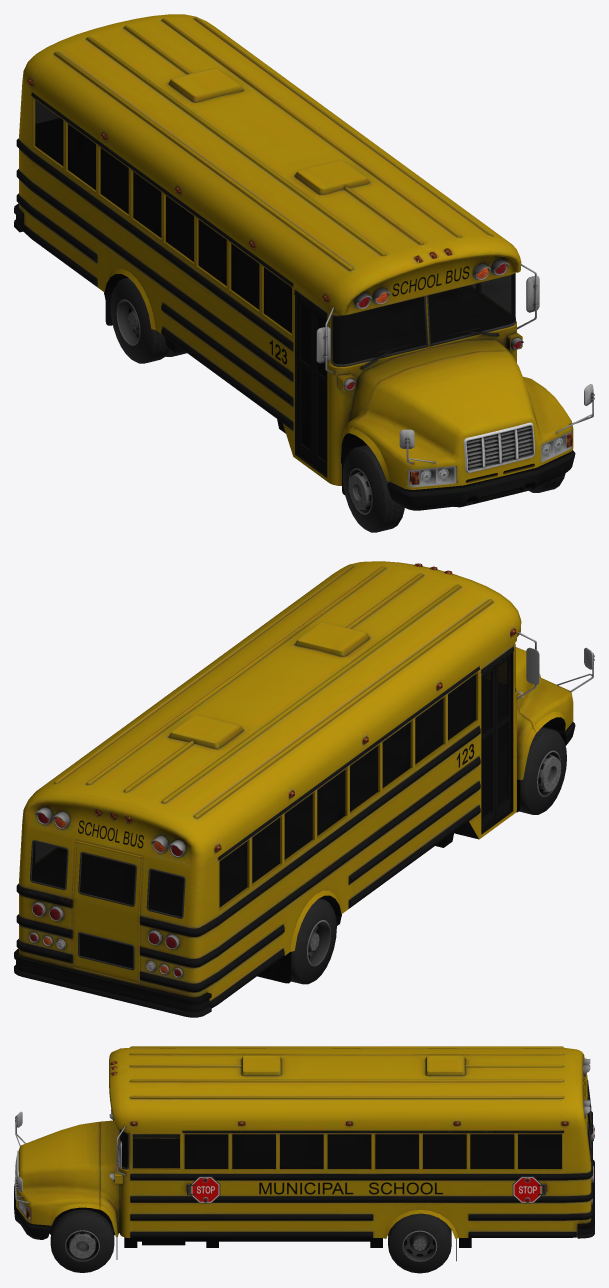
File: veh-school_bus.glb
The picture shows the model from 3 angles, top to bottom: view 1: azimuth 30°, elevation 25°; view 2: azimuth 150°, elevation 25°; view 3: azimuth 270°, elevation 25°; orthographic projection. The views are drawn at different scales.
Parts seen in each view (by area): view 1: school_bus_schoolbus_tex_0, school_bus_schoolbus_glass_0, school_bus_optics_tex_0; view 2: school_bus_schoolbus_tex_0, school_bus_schoolbus_glass_0, school_bus_optics_tex_0, school_bus_decals_tex_0; view 3: school_bus_schoolbus_tex_0, school_bus_schoolbus_glass_0, school_bus_decals_tex_0, school_bus_optics_tex_0.
Part boxes in pixels (x1=…): school_bus_schoolbus_tex_0: x1=14, y1=14, x2=594, y2=532; school_bus_schoolbus_glass_0: x1=35, y1=100, x2=515, y2=461; school_bus_optics_tex_0: x1=27, y1=78, x2=572, y2=484; school_bus_schoolbus_tex_0: x1=14, y1=561, x2=594, y2=1017; school_bus_schoolbus_glass_0: x1=31, y1=661, x2=507, y2=916; school_bus_optics_tex_0: x1=30, y1=563, x2=516, y2=976; school_bus_decals_tex_0: x1=78, y1=744, x2=474, y2=848; school_bus_schoolbus_tex_0: x1=14, y1=1046, x2=594, y2=1273; school_bus_schoolbus_glass_0: x1=120, y1=1085, x2=590, y2=1168; school_bus_decals_tex_0: x1=191, y1=1075, x2=585, y2=1202; school_bus_optics_tex_0: x1=26, y1=1061, x2=594, y2=1218.
Bounding box in the file's own units: 2.55 × 2.67 × 7.91.
4 materials, 4 textured.
